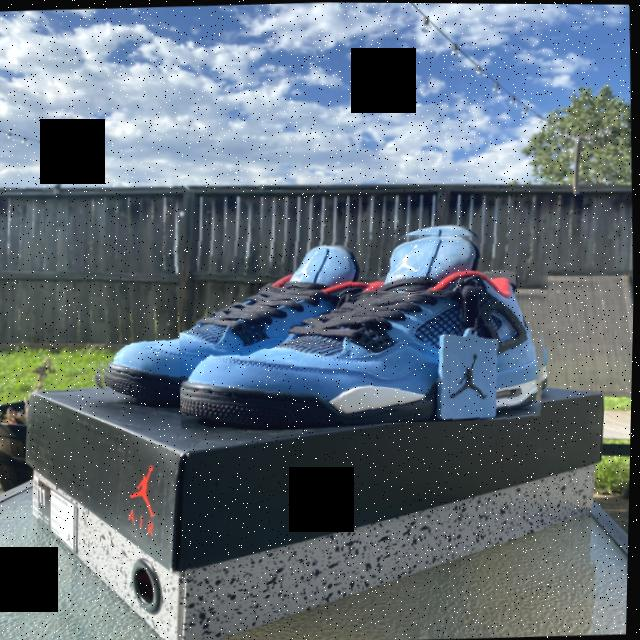shoe: (175, 219, 558, 430), (88, 234, 372, 404)
